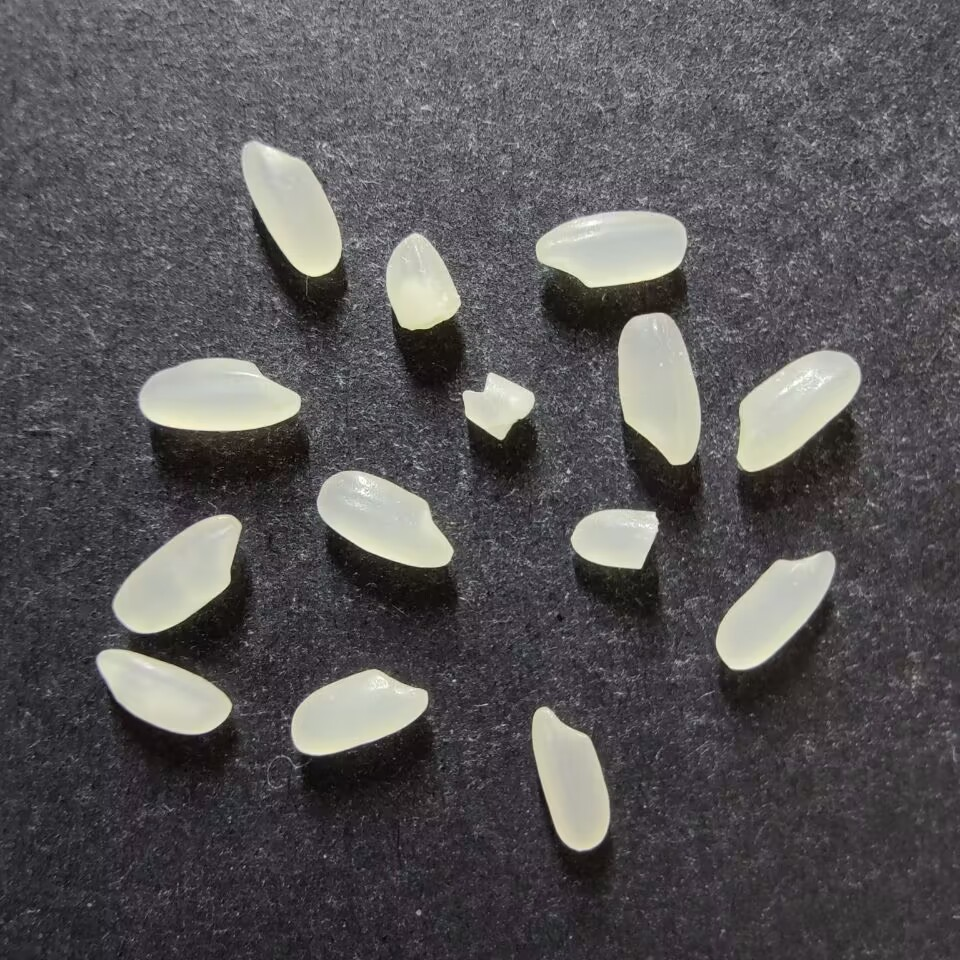broken: (384, 233, 461, 330), (570, 508, 657, 570), (461, 371, 535, 440)
rice: (112, 513, 242, 634), (735, 350, 861, 473), (714, 550, 836, 672), (240, 139, 343, 277), (316, 469, 453, 569), (617, 312, 701, 466), (290, 667, 429, 755), (137, 357, 302, 431), (534, 209, 687, 288), (95, 648, 232, 735), (530, 706, 611, 851)
